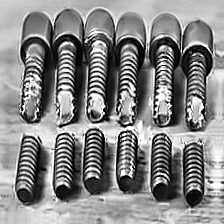creased_bolts: (13, 70, 216, 156)
